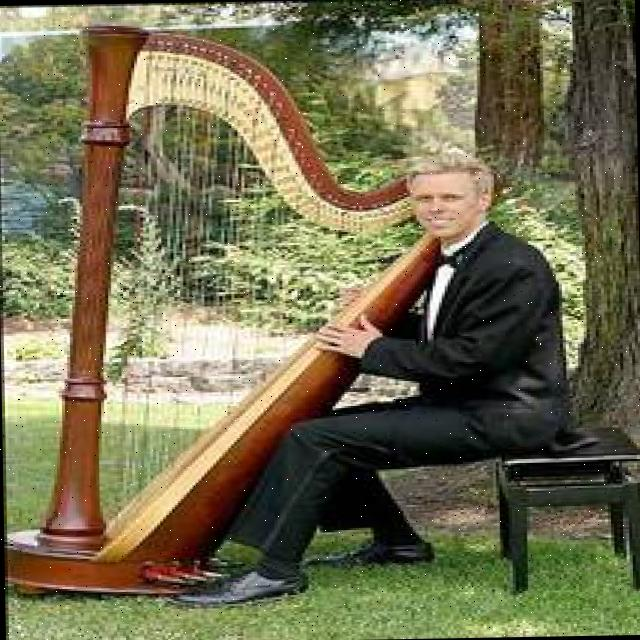harp: (0, 16, 481, 600)
